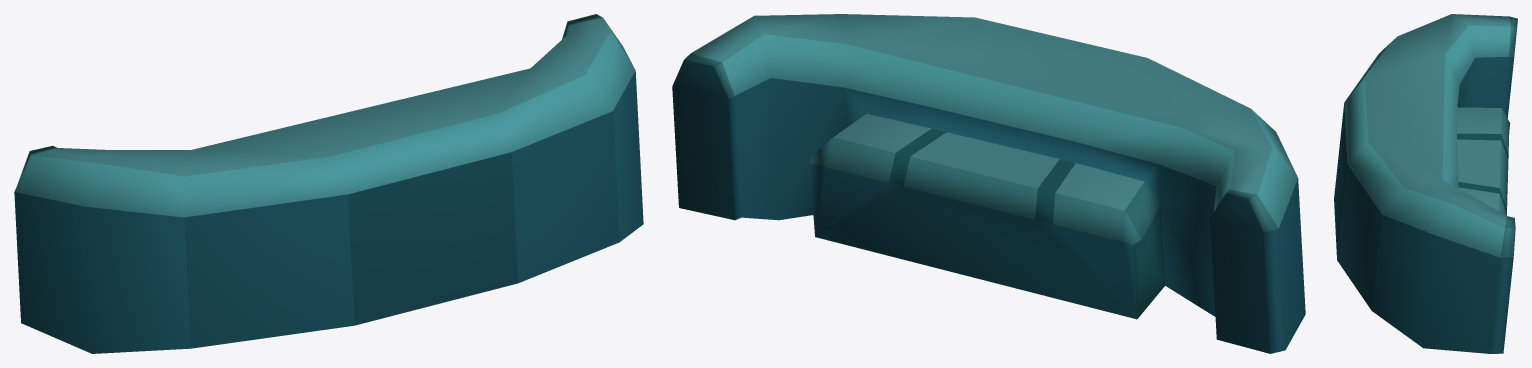
The model's file is mouthBottom.fbx.
3 views of the same model, side by side, from view 1: azimuth 30°, elevation 25°; view 2: azimuth 150°, elevation 25°; view 3: azimuth 270°, elevation 25° (orthographic). The views are drawn at different scales.
Visible parts, largest first — view 1: mouthBottom; view 2: mouthBottom; view 3: mouthBottom.
Boxes of the visible parts, x1,y1,x2,y2 form: mouthBottom: (14,14,643,353); mouthBottom: (672,14,1305,353); mouthBottom: (1334,14,1517,353).
Size of the model in its own units: 51.52 by 15.28 by 17.78.
